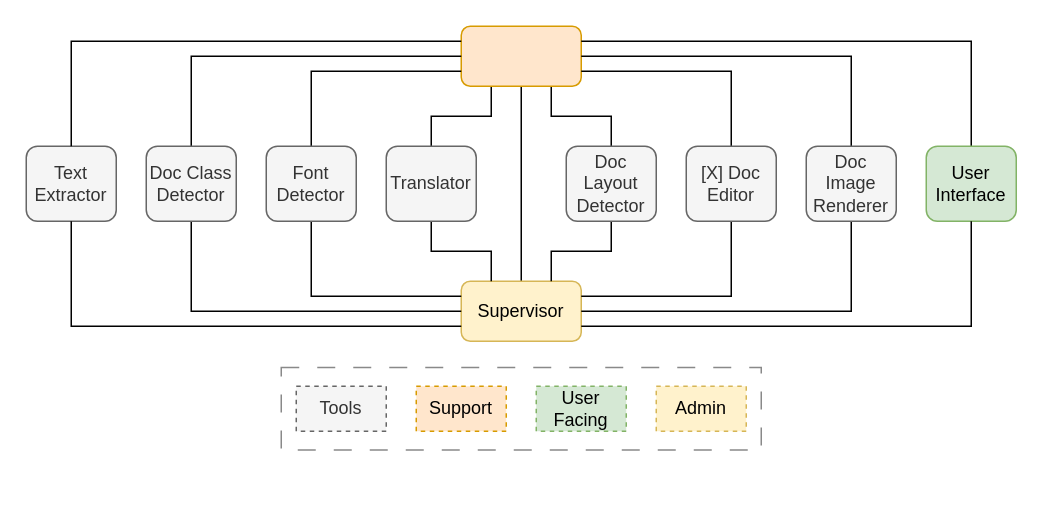
The diagram is 1043 pixels wide and 507 high, and some of its shapes have lost their labels. Each missing label, with the box of its shape:
File Server: (460, 25, 581, 86)
Legend: (280, 366, 761, 450)
